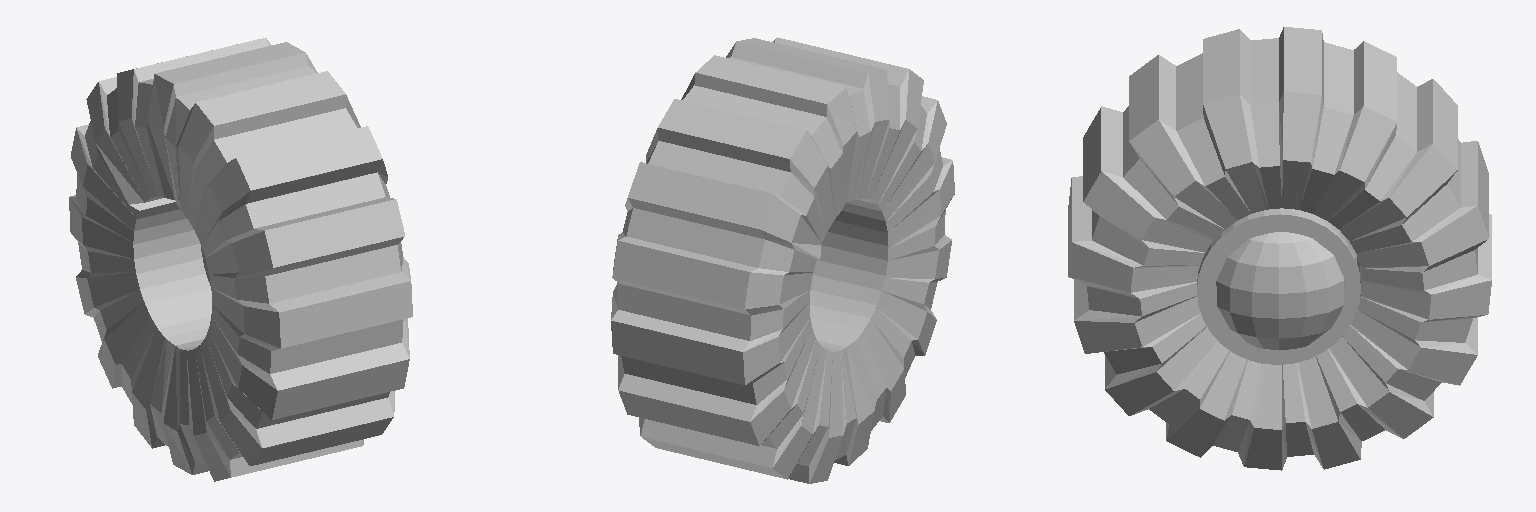
File: frontLeft.obj
3 renders of one model, left to right at view 1: azimuth 30°, elevation 25°; view 2: azimuth 150°, elevation 25°; view 3: azimuth 270°, elevation 25°, orthographic.
Visible parts, largest first — view 1: Cylinder.047; view 2: Cylinder.047; view 3: Cylinder.047.
Part boxes in pixels (bbox=[...]): Cylinder.047: bbox=[69, 38, 412, 481]; Cylinder.047: bbox=[611, 37, 954, 483]; Cylinder.047: bbox=[1068, 27, 1491, 470].
Size of the model in its own units: 0.6847 by 1.34 by 1.36.